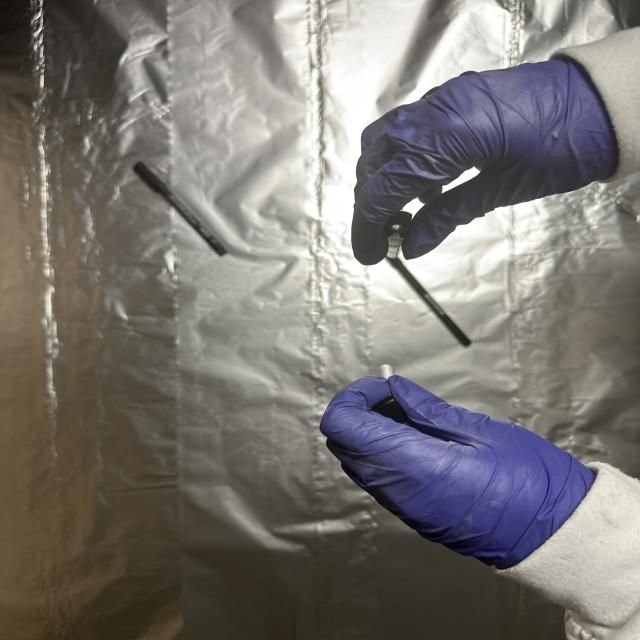gloves_contaminated: (352, 60, 618, 264), (320, 376, 595, 568)
